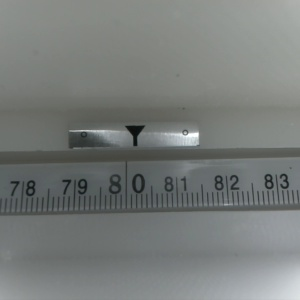0: (131, 174, 145, 193)
1: (180, 176, 186, 191)
2: (229, 175, 238, 190)
3: (279, 173, 289, 189)
7: (61, 179, 72, 195), (8, 180, 19, 196)
8: (109, 173, 122, 194), (24, 180, 35, 196), (263, 173, 273, 189), (163, 176, 173, 191), (213, 175, 223, 190)
9: (77, 178, 88, 194)
finger: (122, 125, 146, 147)
